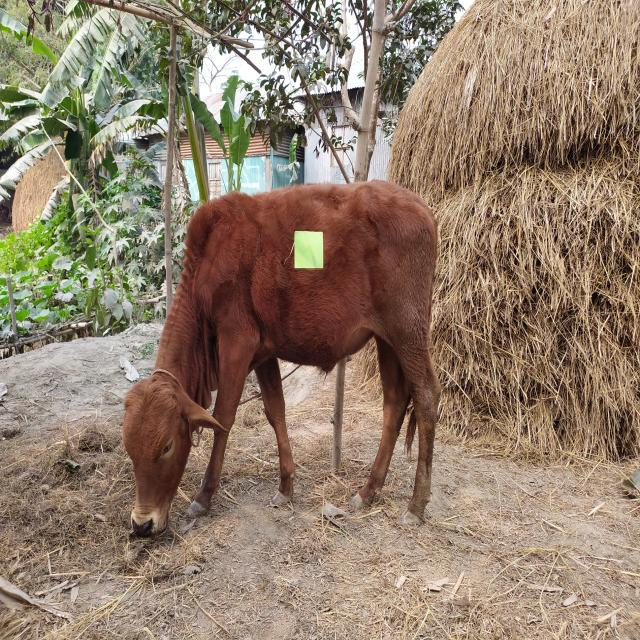badan_sapi: (222, 188, 434, 370)
sapi: (125, 173, 448, 541)
